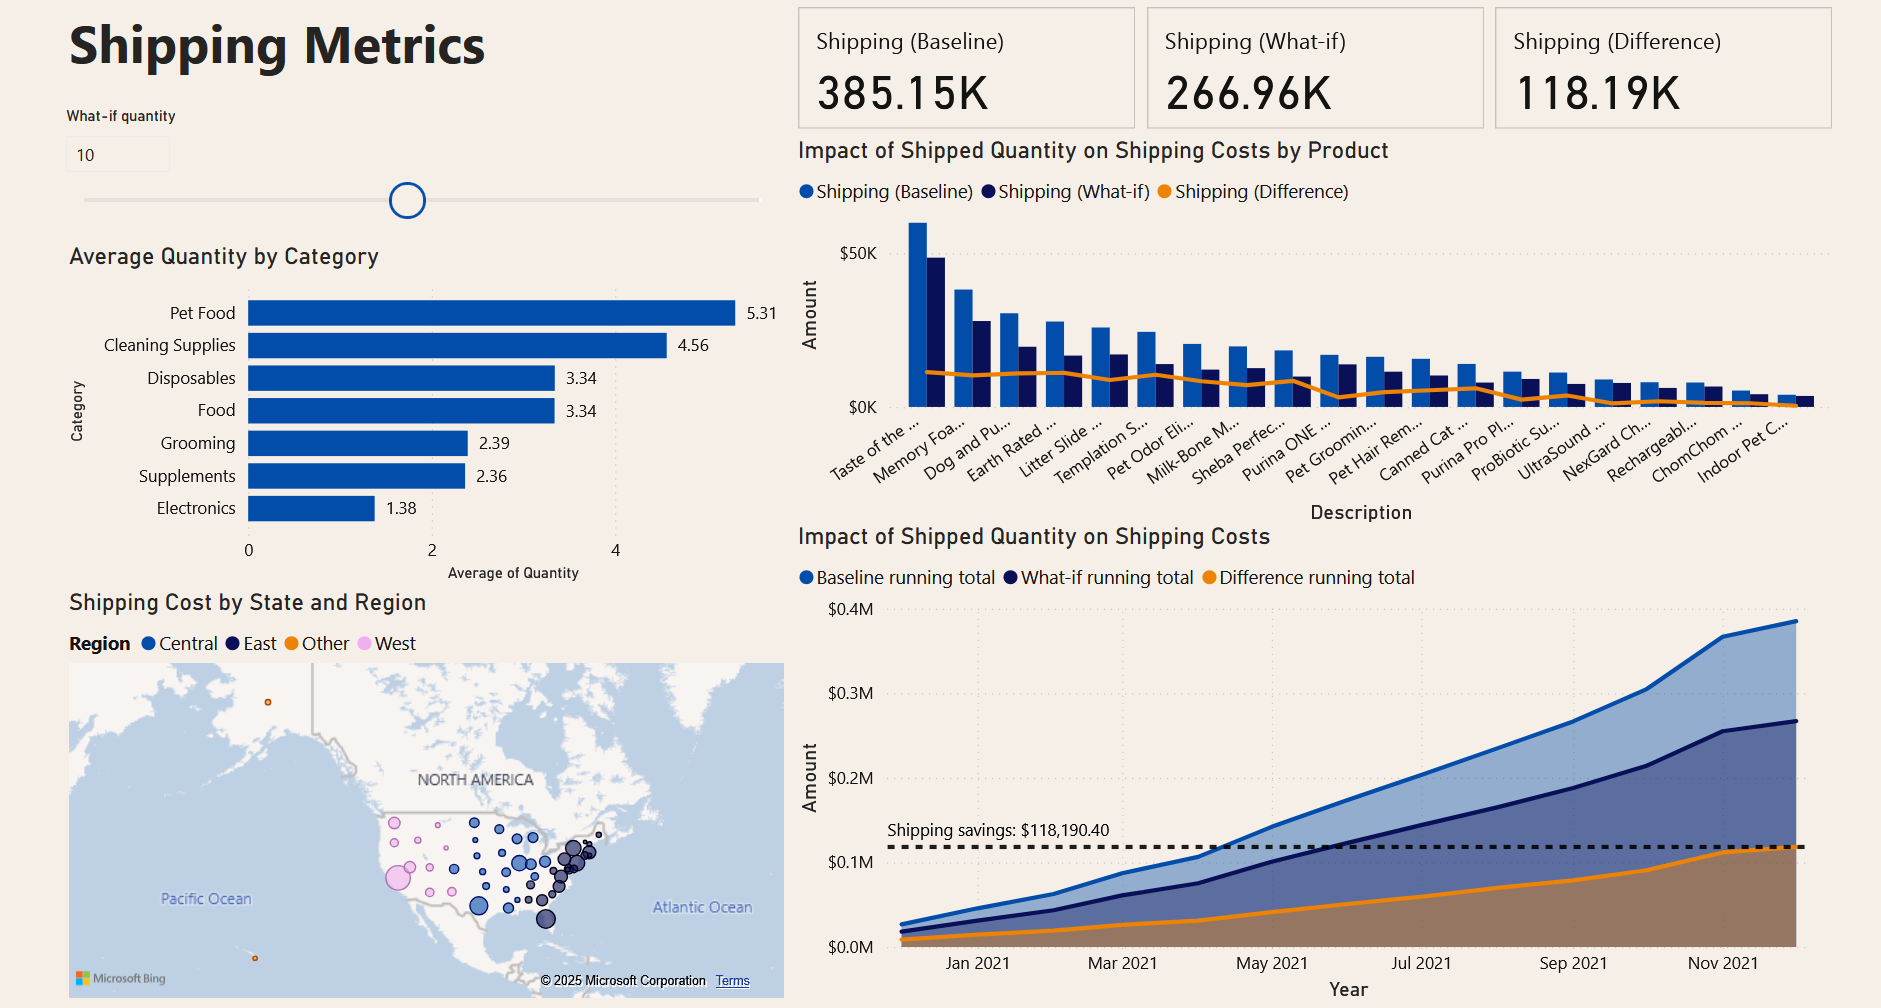

What the dashboard file says about the page in this screenshot:
{"tool":"powerbi","page":{"name":"Shipping Metrics","canvas":[1280,720],"ordinal":1},"visuals":[{"type":"slicer","fields":{"Values":["What-if quantity.What-if quantity"]},"box":[0,71,531,102],"z":0},{"type":"cardVisual","fields":{"Data":["Sales.Shipping (Baseline)","Sales.Shipping (What-if)","Sales.Shipping (Difference)"]},"box":[531,0,749,97],"z":1000},{"type":"lineClusteredColumnComboChart","title":"Impact of Shipped Quantity on Shipping Costs by Product","fields":{"Category":["Sales.Description"],"Y":["Sales.Shipping (Baseline)","Sales.Shipping (What-if)"],"Y2":["Sales.Shipping (Difference)"]},"box":[531,97,749,282],"z":2000},{"type":"areaChart","title":"Impact of Shipped Quantity on Shipping Costs","fields":{"Y":["Sales.Baseline running total","Sales.What-if running total","Sales.Difference running total"],"Category":["Sales.Transaction Date.Variation.Date Hierarchy.Year","Sales.Transaction Date.Variation.Date Hierarchy.Month"]},"box":[531,373,749,347],"z":3000},{"type":"clusteredBarChart","title":"Average Quantity by Category","fields":{"Y":["Avg(Sales.Quantity)"],"Category":["Products.Category"]},"box":[10,173,521,247],"z":4000},{"type":"map","title":"Shipping Cost by State and Region","fields":{"Series":["State Mapping.Region"],"Category":["State Mapping.State"],"Size":["Sales.Shipping (Baseline)1"]},"box":[9.7,420.2,521.3,298.6],"z":5000},{"type":"textbox","box":[10,0,521,66],"z":6000}]}

Visuals, with their boxes on the page's 1280x720 design canvas (x1, y1, x2, y2). These are canvas units, not pixel positions in the 1881x1008 screenshot, which may show the page scaled, cropped or inside an application window:
slicer - What-if quantity.What-if quantity: 0 71 531 173
cardVisual - Sales.Shipping (Baseline) x Sales.Shipping (What-if): 531 0 1280 97
"Impact of Shipped Quantity on Shipping Costs by Product" lineClusteredColumnComboChart: 531 97 1280 379
"Impact of Shipped Quantity on Shipping Costs" areaChart: 531 373 1280 720
"Average Quantity by Category" clusteredBarChart: 10 173 531 420
"Shipping Cost by State and Region" map: 10 420 531 719
textbox: 10 0 531 66
